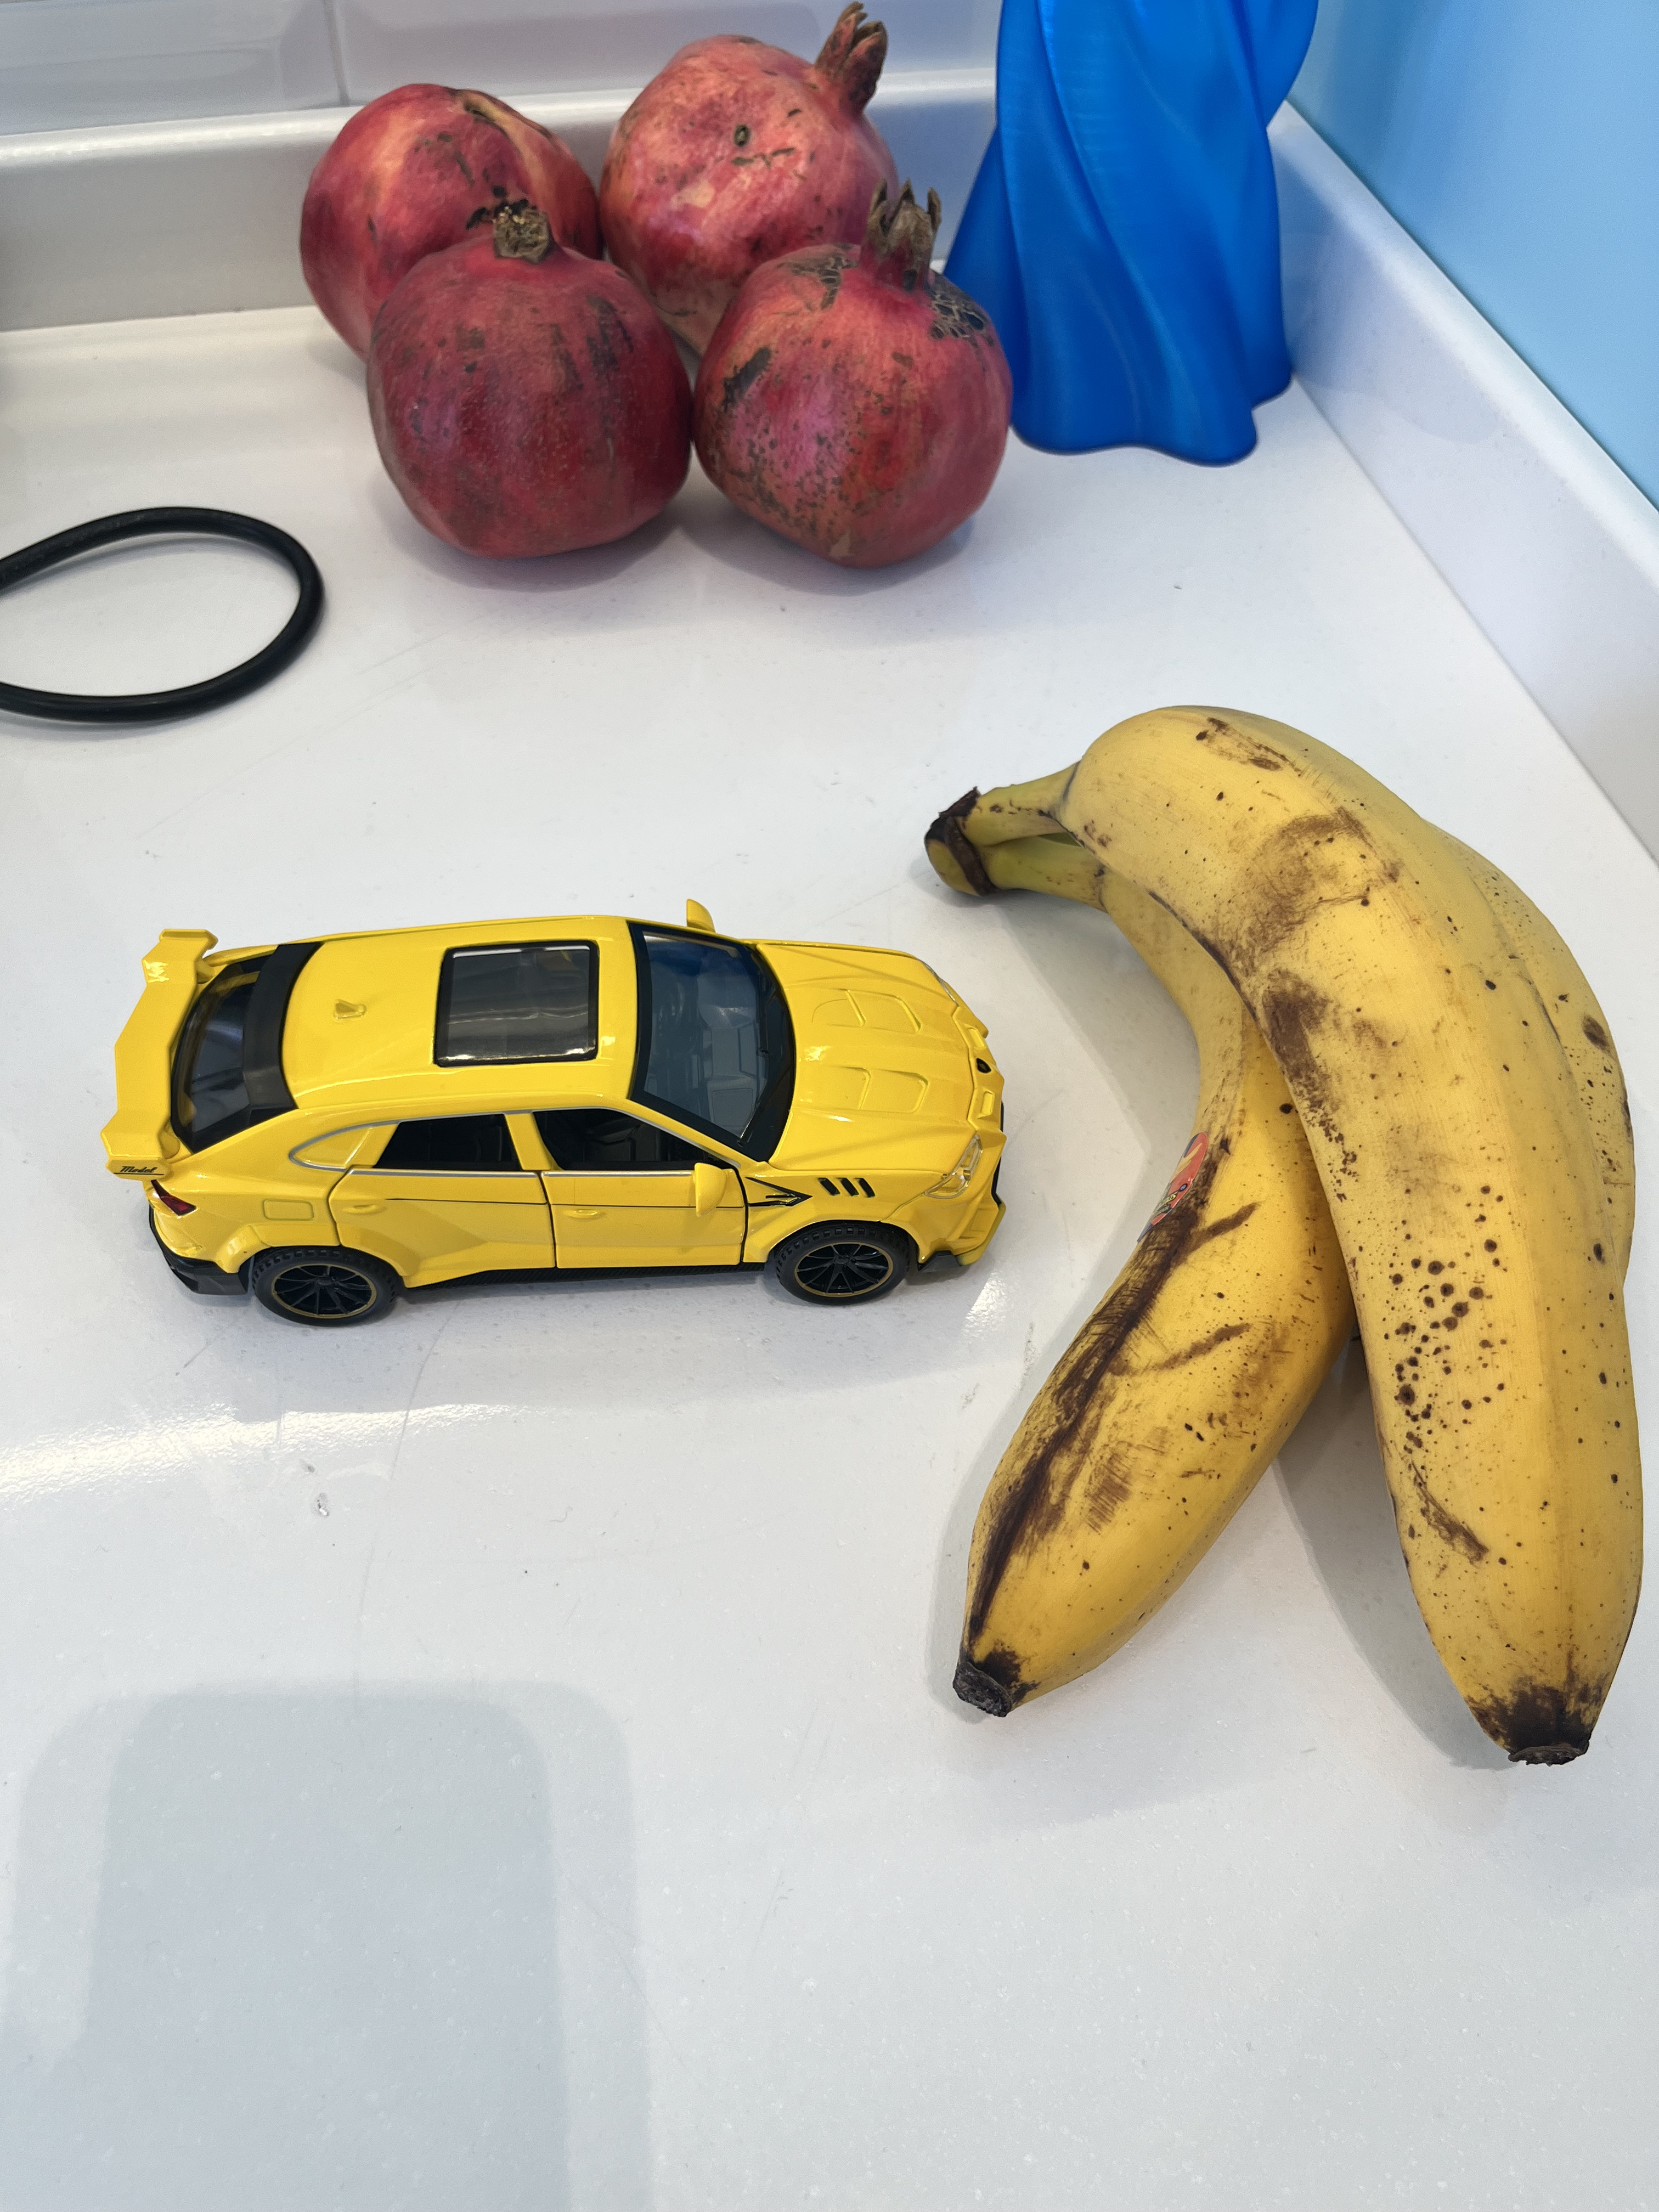lambo: (91, 900, 1032, 1353)
